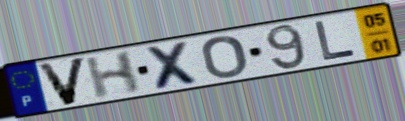9: (263, 23, 308, 71)
H: (82, 48, 143, 102)
L: (313, 19, 359, 64)
O: (199, 34, 250, 80)
V: (34, 55, 90, 108)
X: (142, 39, 205, 92)
